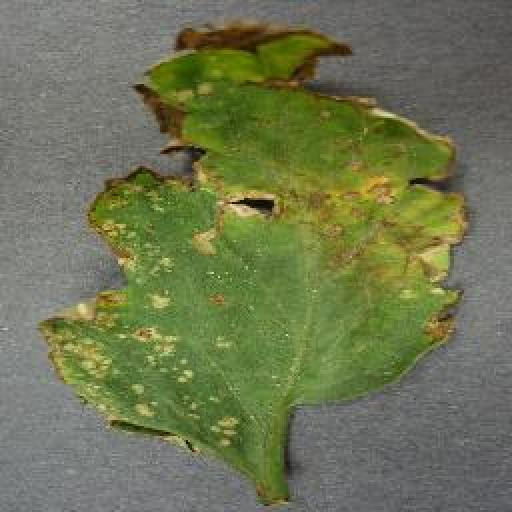Bacterial Spot: (39, 17, 481, 463)
